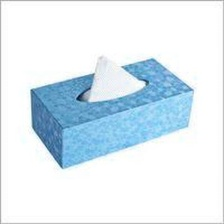book: (24, 52, 199, 173)
tissue: (79, 49, 152, 106)
